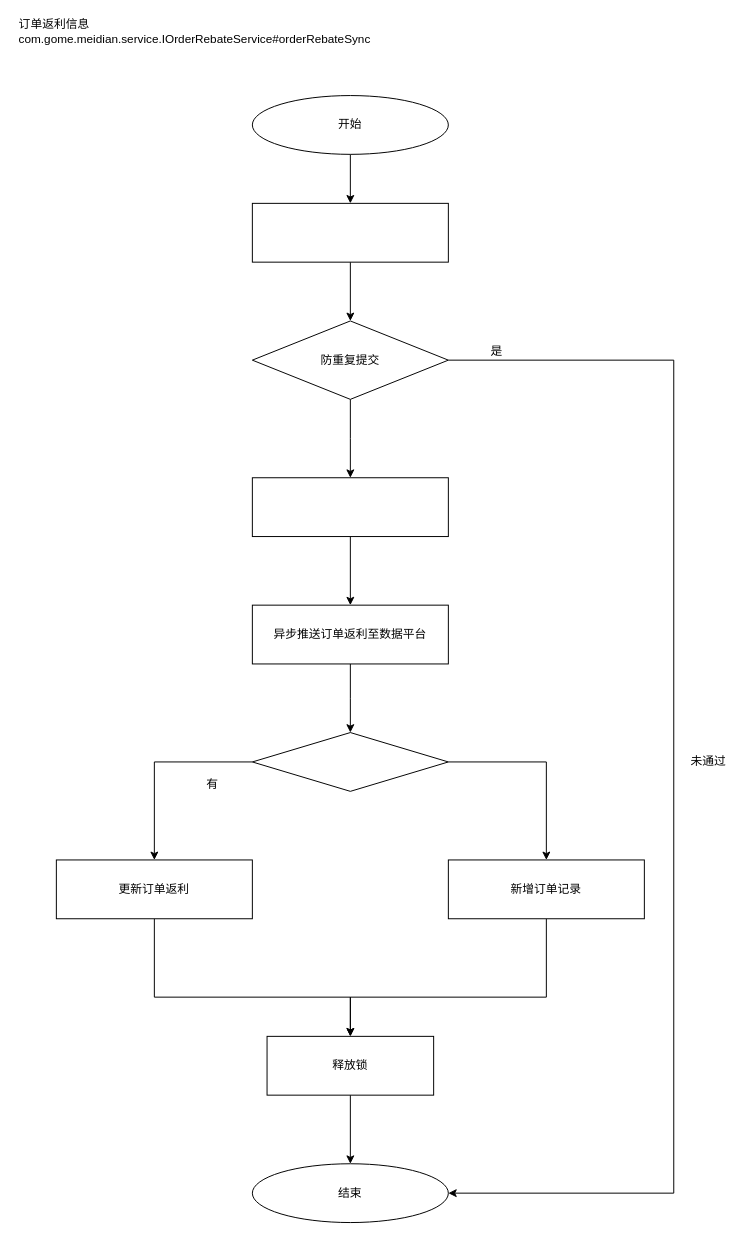
This 749x1240 diagram has some shape labels left out. Each missing label, with the box of its shape:
AOP日志: (251, 202, 448, 262)
互斥锁: (251, 477, 448, 537)
判断是否有订单: (251, 732, 448, 791)
